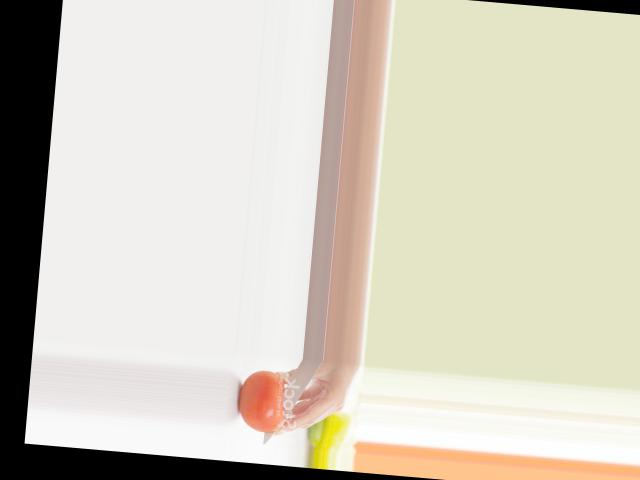tomato: (235, 367, 288, 433)
